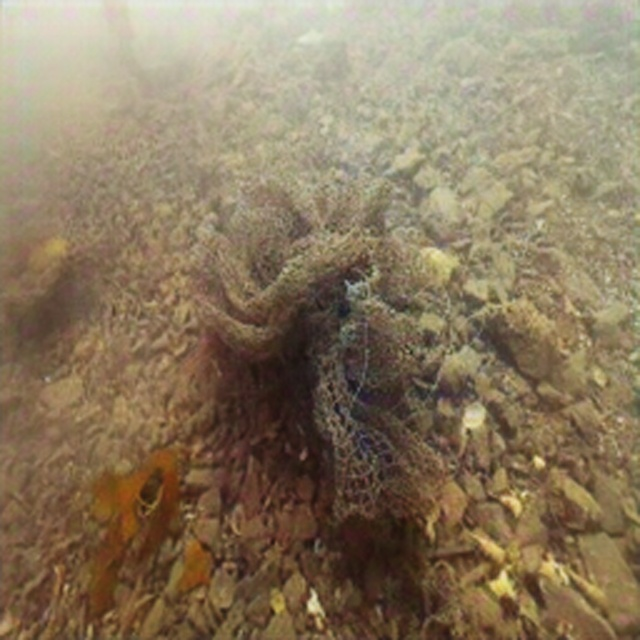mine: (203, 161, 450, 518)
